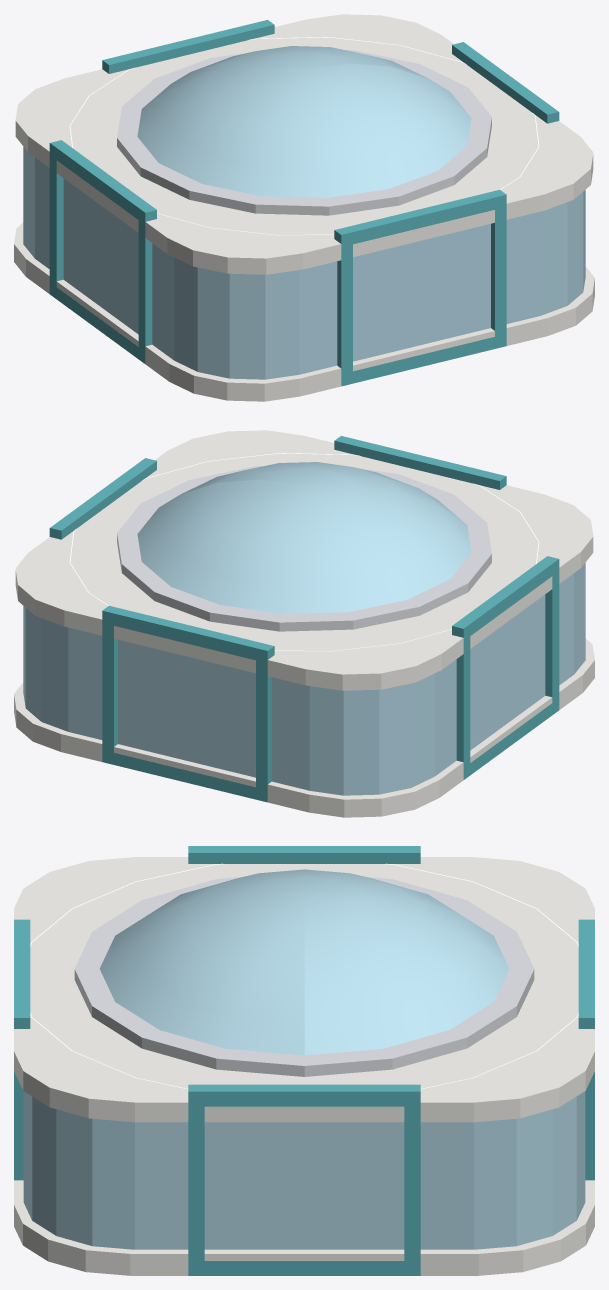
The model's file is arcology-towers-and-skyways-skyway-junction-pod-four-w-8baff99f__23249.glb.
3 renders of one model, top to bottom at view 1: azimuth 30°, elevation 25°; view 2: azimuth 150°, elevation 25°; view 3: azimuth 270°, elevation 25°, orthographic. The views are drawn at different scales.
Visible parts, largest first — view 1: skyway-junction-pod-four-way; view 2: skyway-junction-pod-four-way; view 3: skyway-junction-pod-four-way.
Boxes of the visible parts, x1,y1,x2,y2 form: skyway-junction-pod-four-way: (14,14,594,401); skyway-junction-pod-four-way: (14,430,594,817); skyway-junction-pod-four-way: (14,846,594,1275).
Size of the model in its own units: 12 by 5.8 by 12.
